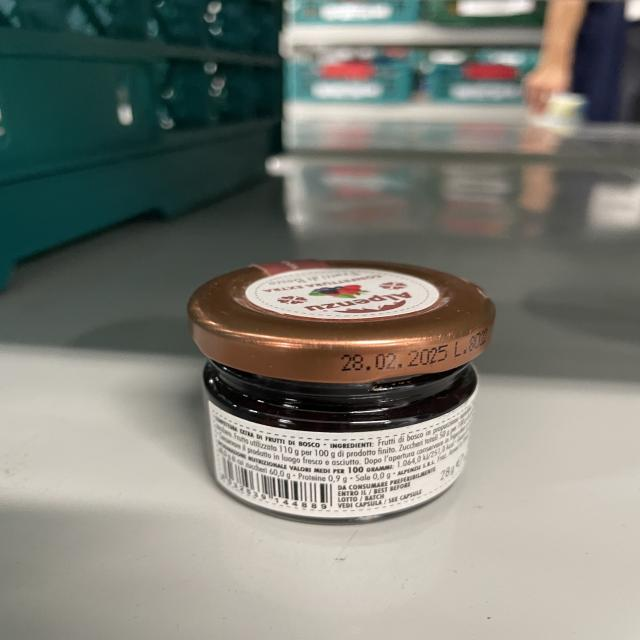object_name: (187, 268, 493, 521)
